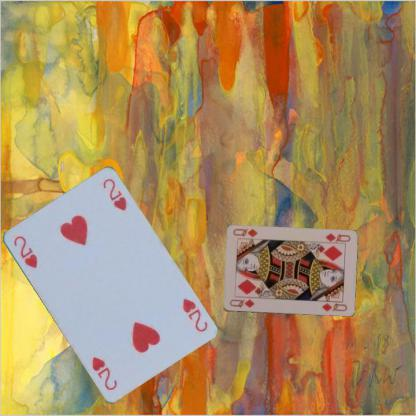2h: (179, 296, 209, 334), (10, 233, 39, 269)
Qd: (321, 231, 351, 246), (227, 297, 255, 309)
